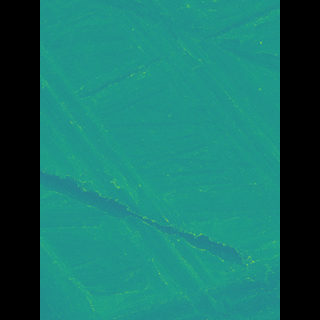Loch: (70, 31, 219, 319), (115, 0, 249, 245), (69, 166, 229, 275), (68, 234, 118, 319)
